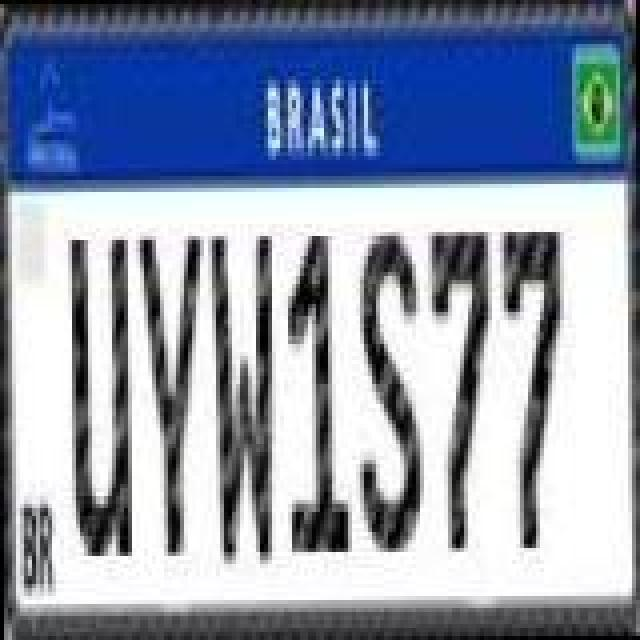1: (284, 230, 352, 554)
7: (500, 220, 568, 556), (428, 228, 496, 552)
S: (356, 222, 424, 558)
U: (68, 228, 136, 564)
W: (208, 234, 276, 570)
Y: (134, 226, 206, 562)
